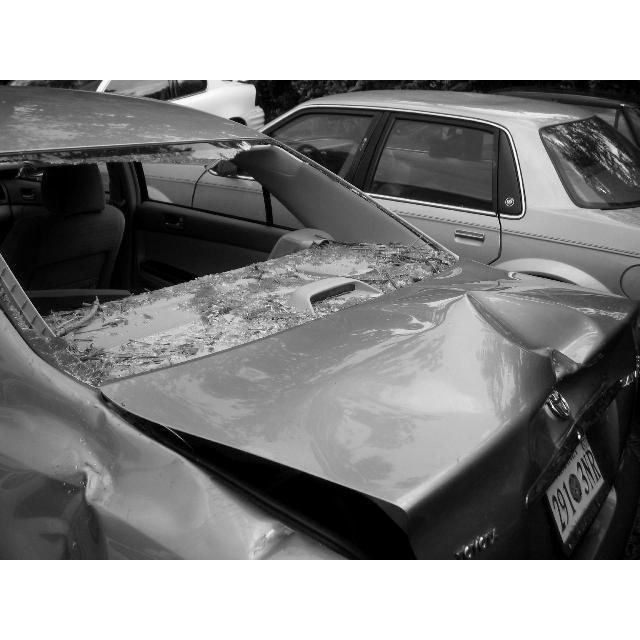Rear-windscreen-Damage: (1, 136, 426, 318)
quaterpanel-dent: (0, 311, 246, 559)
rear-bumper-dent: (228, 275, 624, 509)
